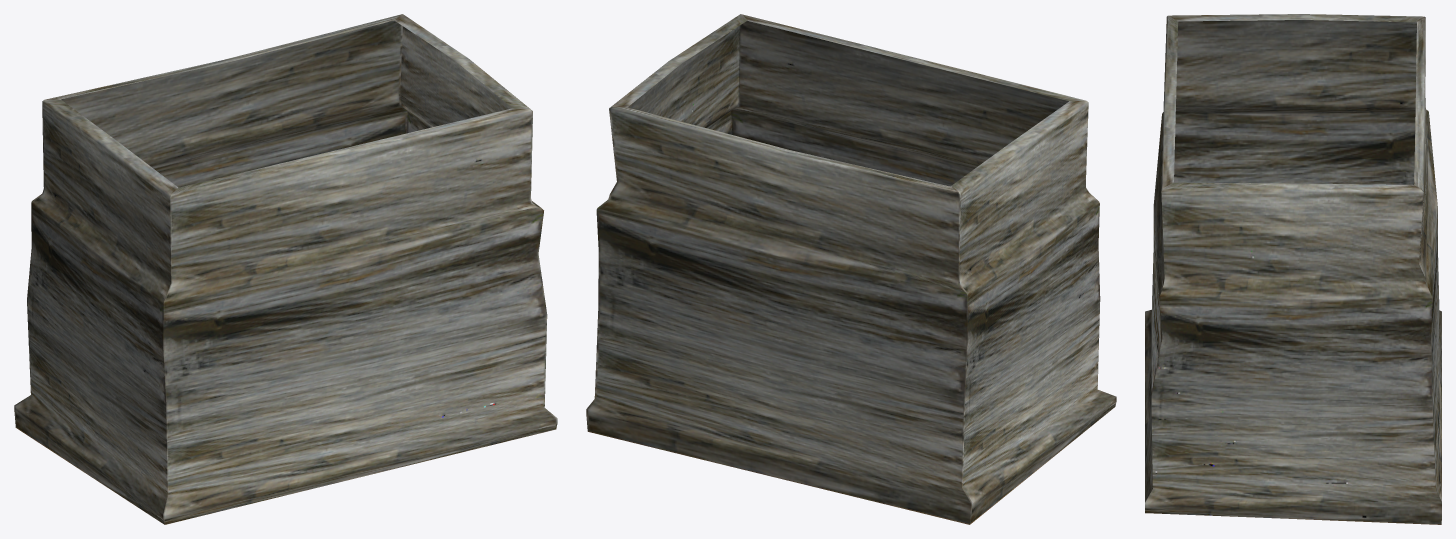
File: PalletStack_foil.fbx
3 renders of one model, left to right at view 1: azimuth 30°, elevation 25°; view 2: azimuth 150°, elevation 25°; view 3: azimuth 270°, elevation 25°, orthographic. The views are drawn at different scales.
Visible parts, largest first — view 1: Foil_LOD0; view 2: Foil_LOD0; view 3: Foil_LOD0.
Boxes of the visible parts, <box> form: Foil_LOD0: <box>14,14,557,524</box>; Foil_LOD0: <box>586,14,1116,524</box>; Foil_LOD0: <box>1145,14,1441,524</box>.
Size of what is drawn, in the model's own units: 123 by 98.44 by 80.35.
